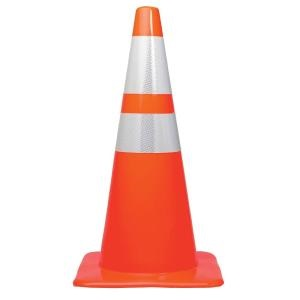traffic cone: (73, 5, 224, 288)
